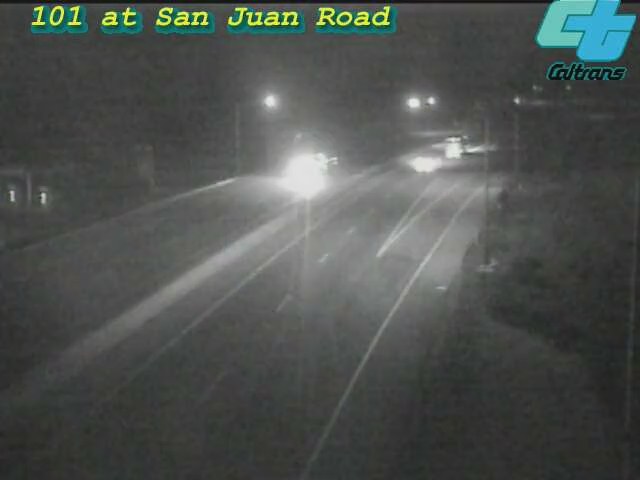vehicle: (268, 134, 348, 214), (387, 121, 467, 201), (429, 119, 479, 169)
